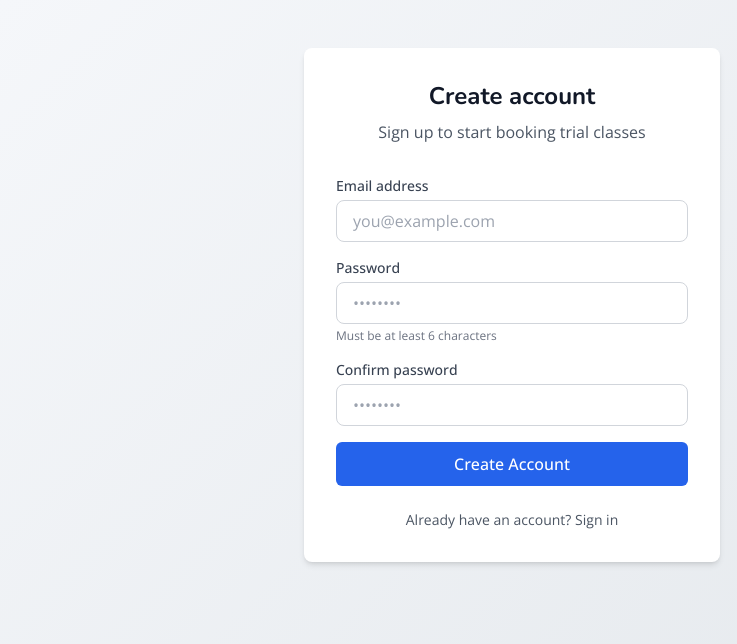
Test case: LR-SU UI & structure › LR-SU-008: render + error path produces no console.error/warn
The image size is (737, 644).
Type "a@b.co" into the field labelled "Email address" at (512, 221), box [336, 200, 688, 242]
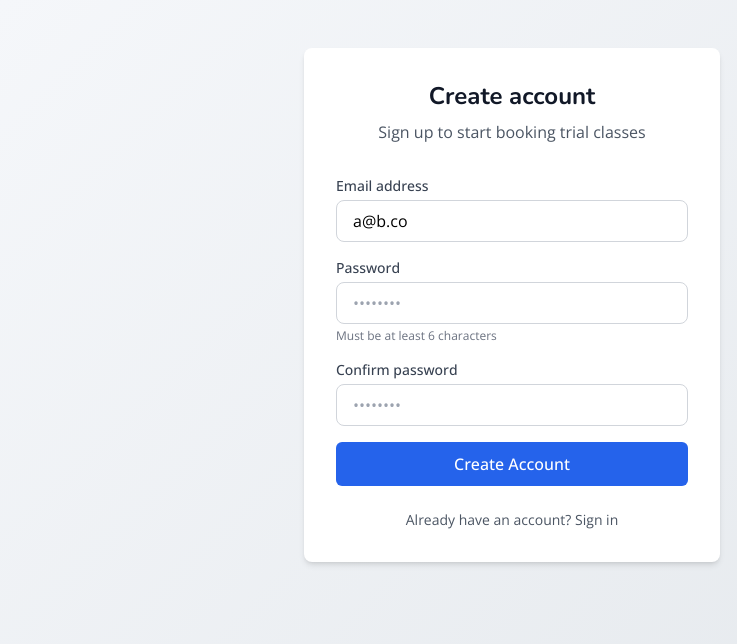
Type "123456" into the password field labelled "Password" at (512, 303), box [336, 282, 688, 324]
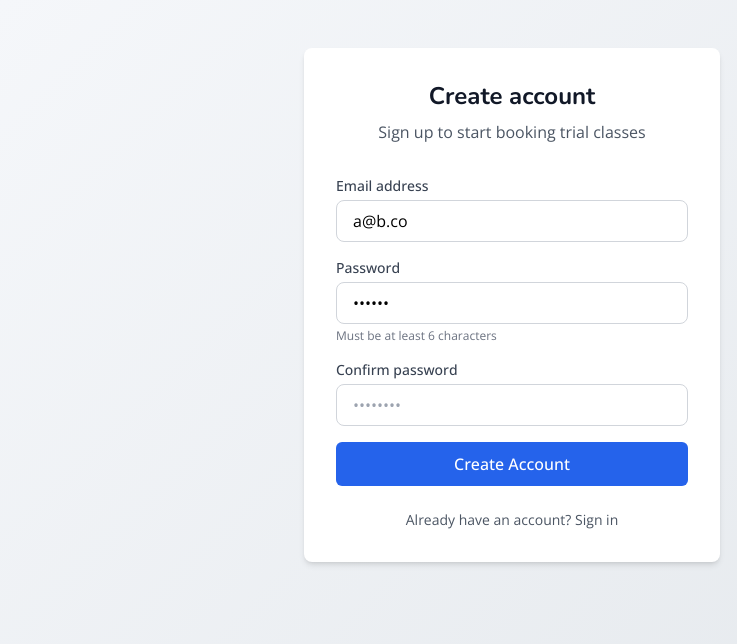
Type "123456" into the password field labelled "Confirm password" at (512, 405), box [336, 384, 688, 426]
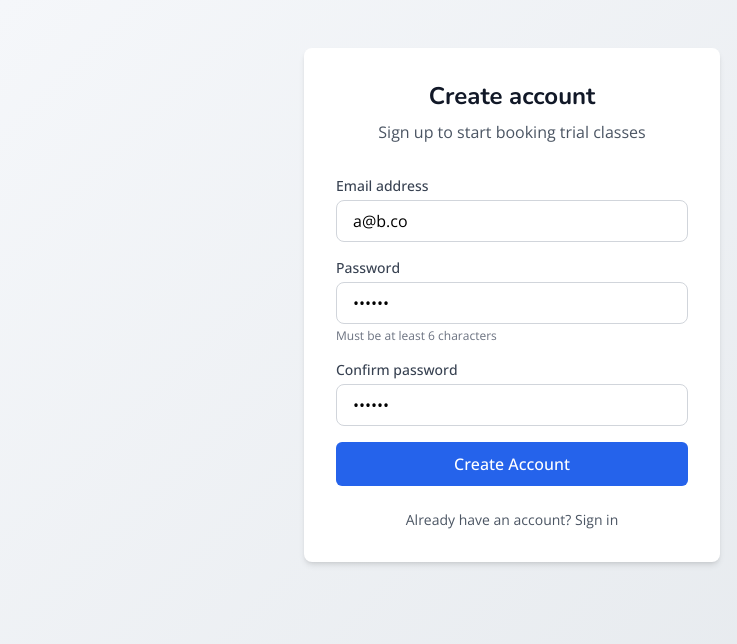
Submit the form, box [336, 176, 688, 486]
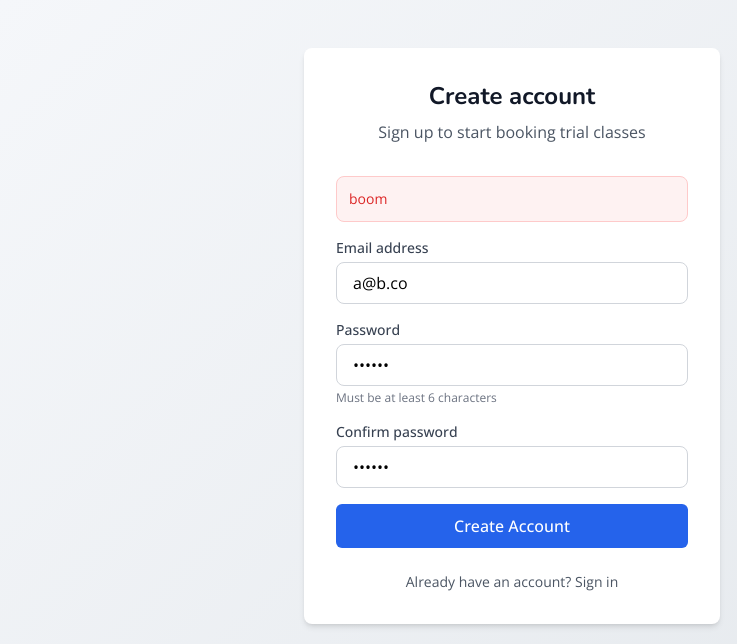
Check: the text "boom" is shown, box [349, 189, 387, 208]
